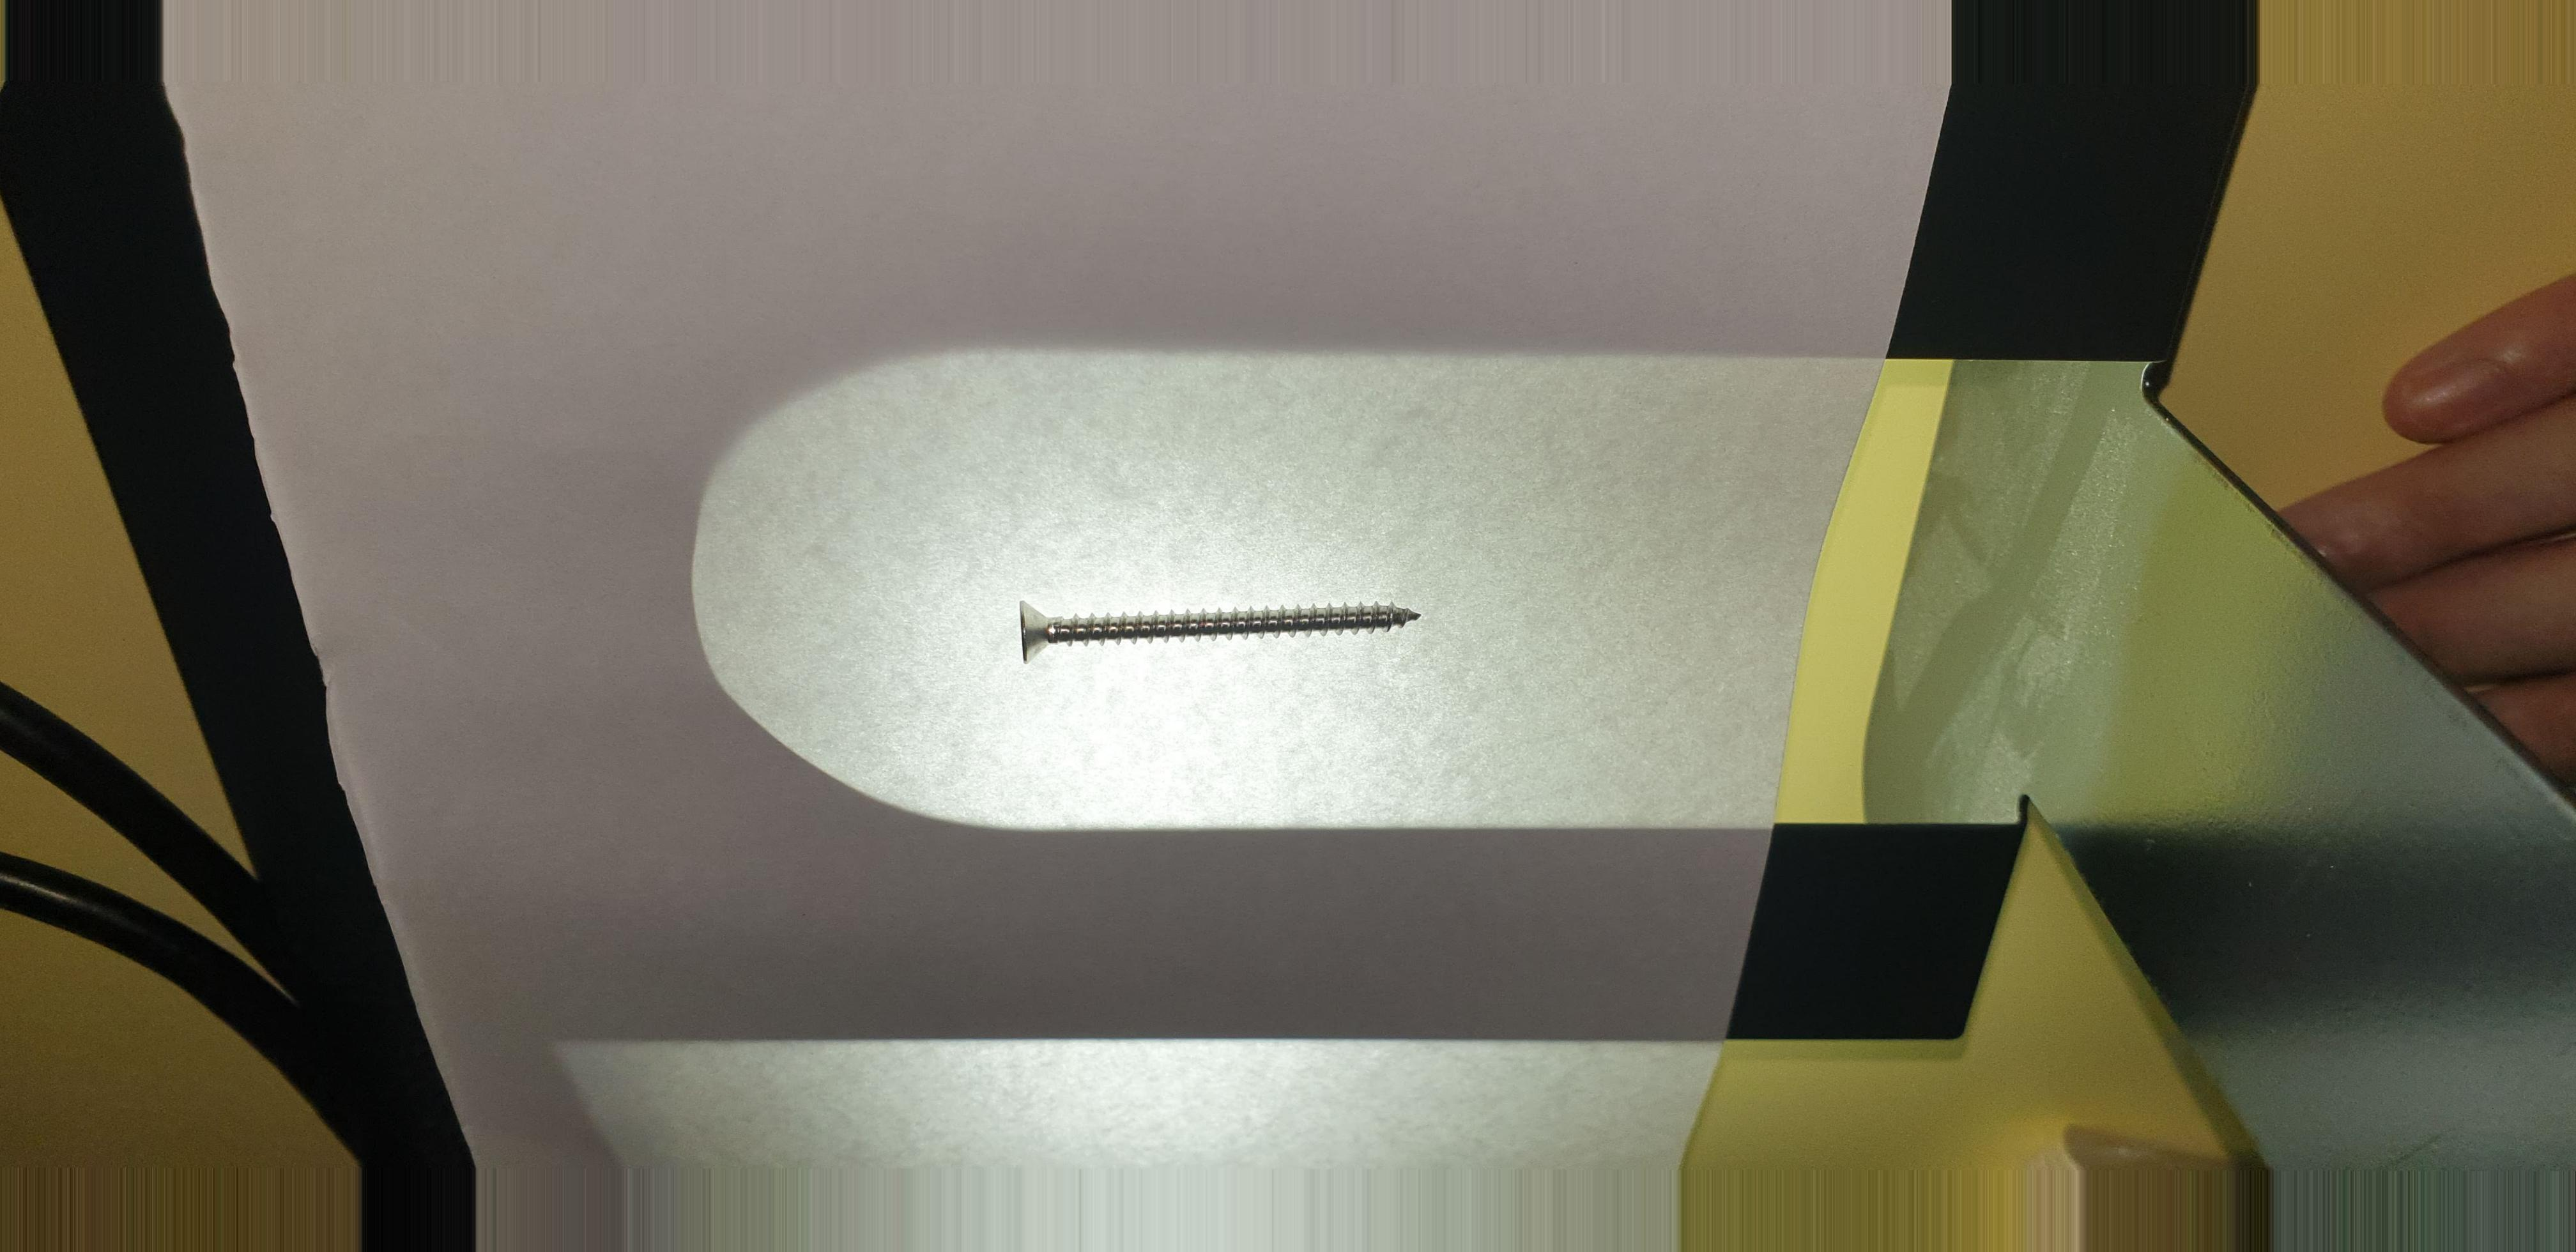fastener: (940, 547, 1503, 707)
